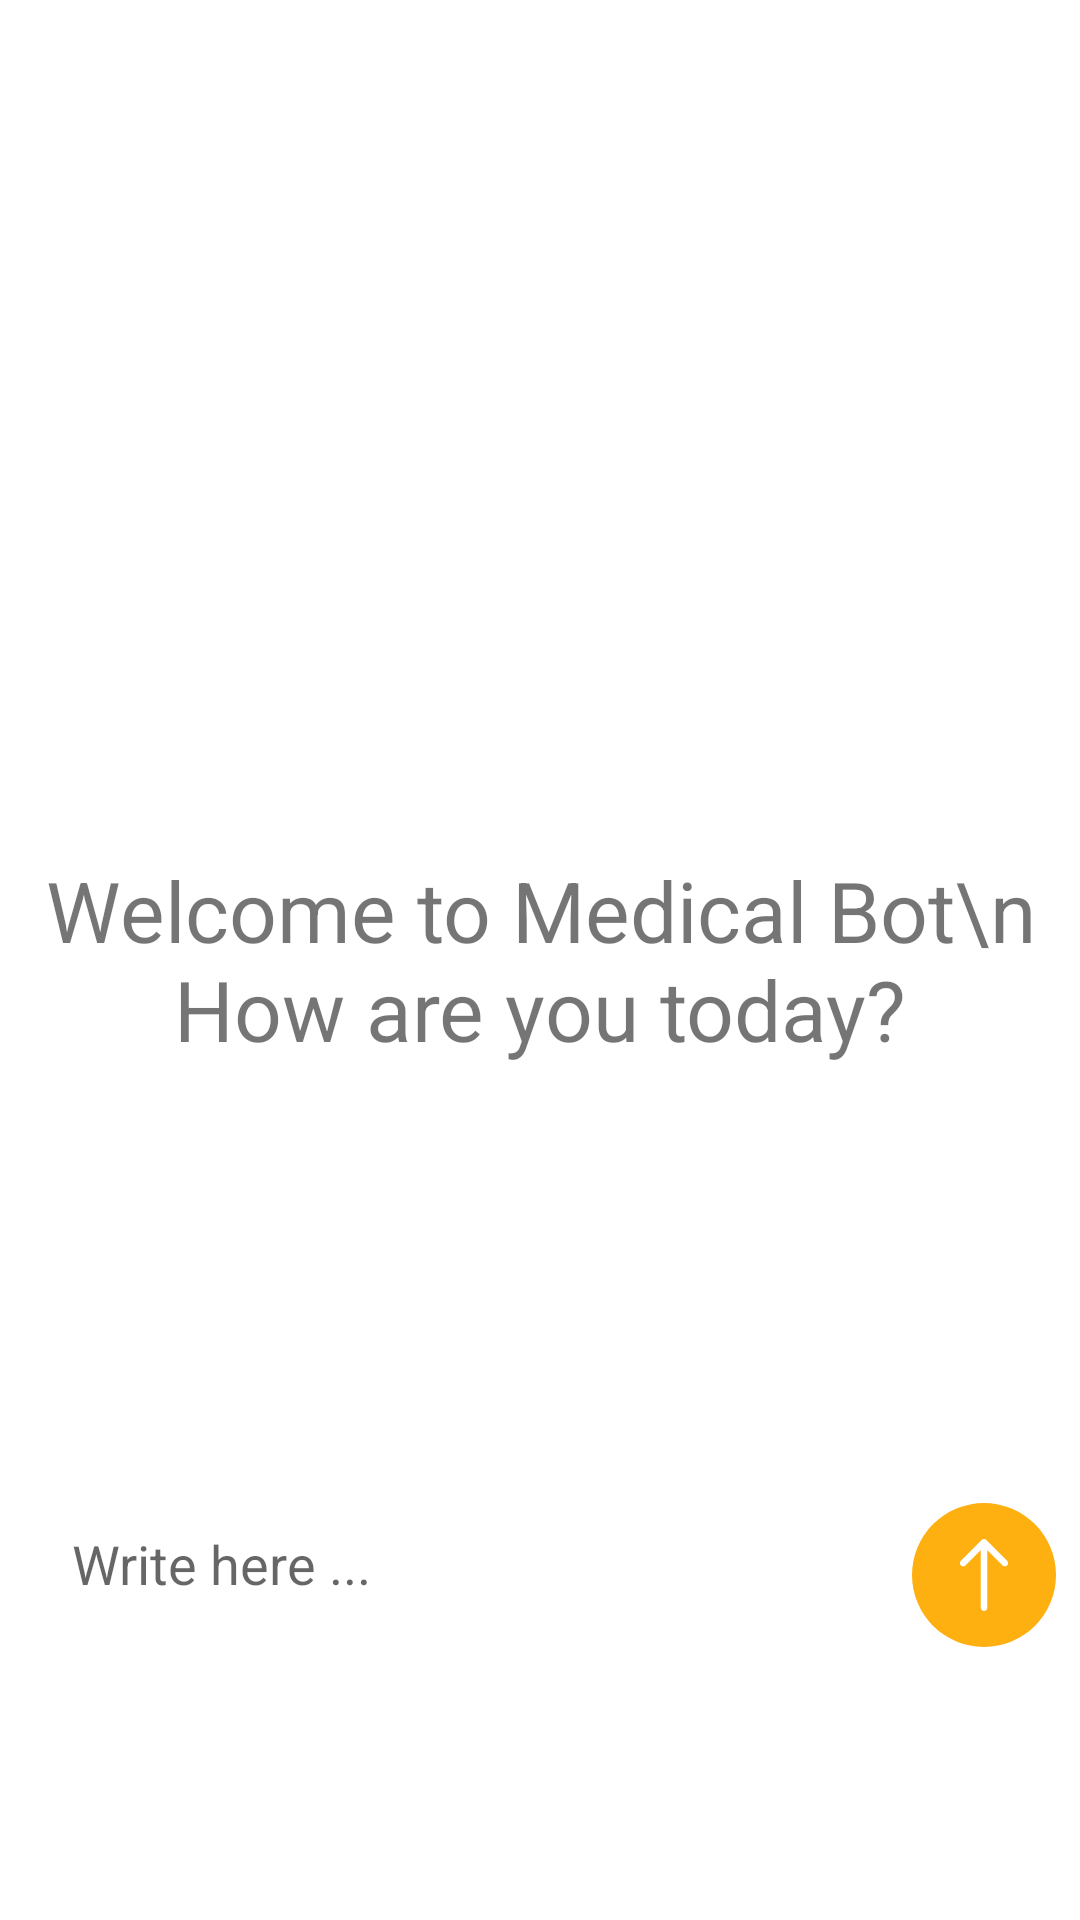

Where icons sit on this 1080 x 1920 app screen, as (x1, y1, x2, y2):
send above: (912, 1503, 1056, 1647)
